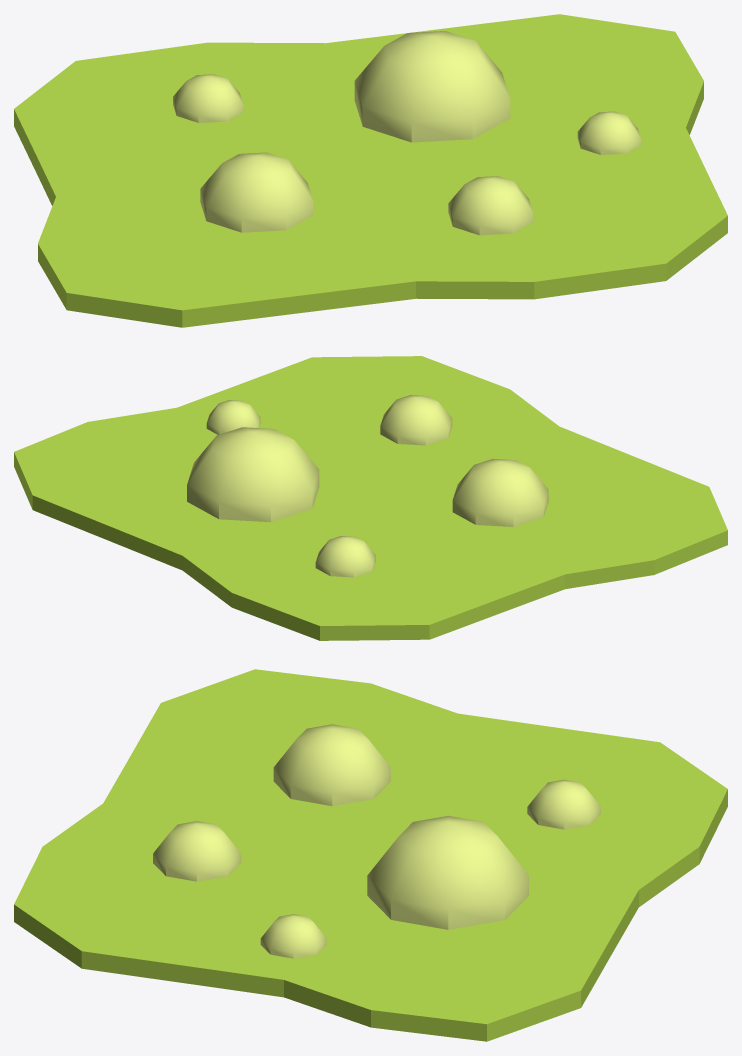
File: item_glue.glb
3 renders of one model, top to bottom at view 1: azimuth 30°, elevation 25°; view 2: azimuth 150°, elevation 25°; view 3: azimuth 270°, elevation 25°, orthographic. The views are drawn at different scales.
Parts seen in each view (by area): view 1: item_glue; view 2: item_glue; view 3: item_glue.
Part boxes in pixels (x1,y1,x2,y2): item_glue: (14,14,727,327); item_glue: (14,356,727,640); item_glue: (14,669,727,1041).
Size of the model in its own units: 2.17 by 0.26 by 1.85.
